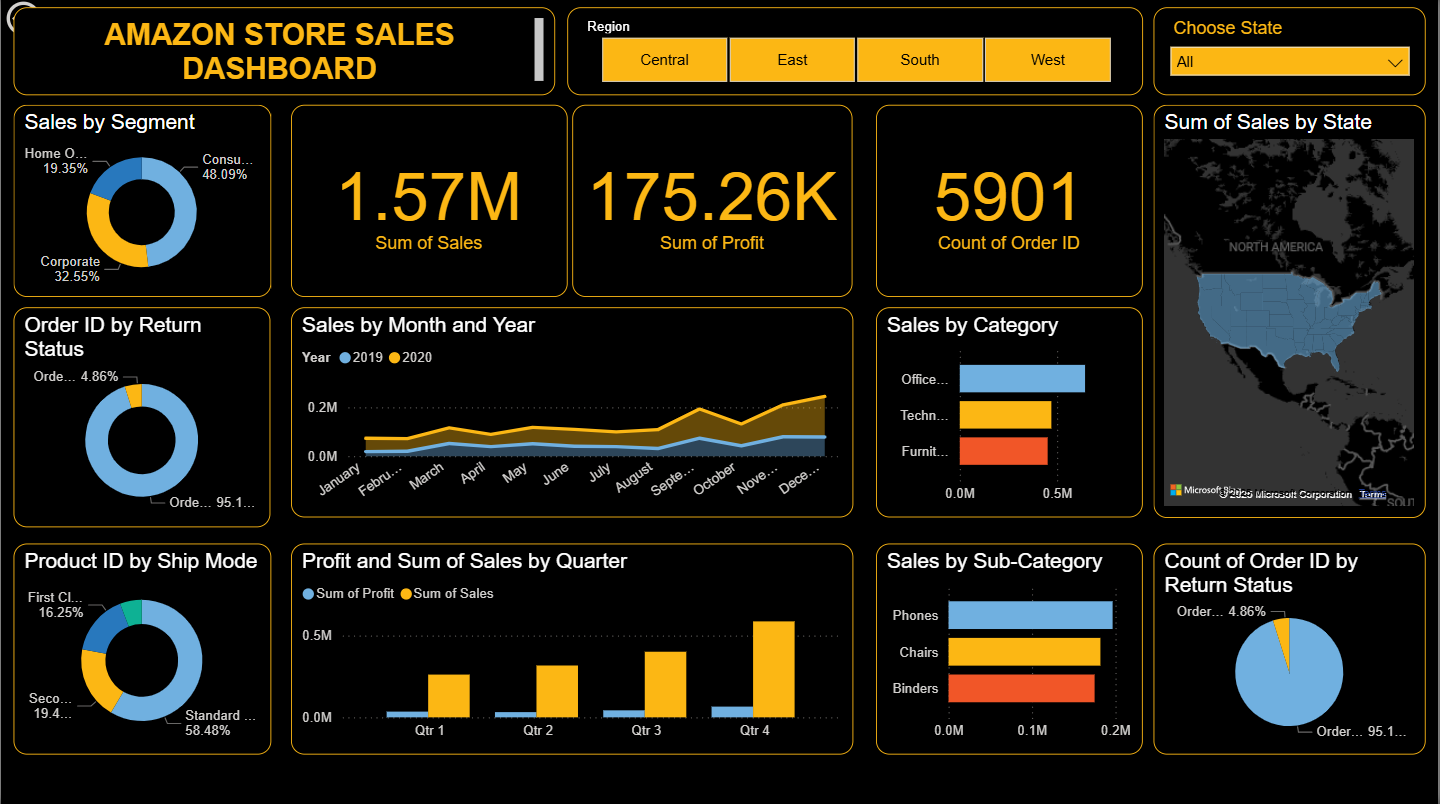

This screenshot's page, from the dashboard's own definition file:
{"tool":"powerbi","page":{"name":"Page 1","canvas":[1280,720],"ordinal":0},"visuals":[{"type":"clusteredBarChart","title":"Sales by Category","fields":{"Category":["Amazon Store Sales Data xlsx - Sheet1 (1).Category"],"Y":["Sum(Amazon Store Sales Data xlsx - Sheet1 (1).Sales)"]},"box":[779.4,277.5,237.7,187],"z":0},{"type":"clusteredBarChart","title":"Sales by Sub-Category","fields":{"Category":["Amazon Store Sales Data xlsx - Sheet1 (1).Sub-Category"],"Y":["Sum(Amazon Store Sales Data xlsx - Sheet1 (1).Sales)"]},"box":[779.4,487.4,237.7,188.2],"z":1000},{"type":"donutChart","title":" Sales by Segment","fields":{"Category":["Amazon Store Sales Data xlsx - Sheet1 (1).Segment"],"Y":["Sum(Amazon Store Sales Data xlsx - Sheet1 (1).Sales)"]},"box":[10.9,96.5,229.2,171.3],"z":2000},{"type":"donutChart","title":"Product ID by Ship Mode","fields":{"Category":["Amazon Store Sales Data xlsx - Sheet1 (1).Ship Mode"],"Y":["CountNonNull(Amazon Store Sales Data xlsx - Sheet1 (1).Product ID)"]},"box":[10.9,487.4,229.2,188.2],"z":3000},{"type":"donutChart","title":"Order ID by Return Status","fields":{"Y":["CountNonNull(Amazon Store Sales Data xlsx - Sheet1 (1).Order ID)"],"Category":["Amazon Store Sales Data xlsx - Sheet1 (1).Return Status"]},"box":[11,277.2,229.2,196.2],"z":4000},{"type":"stackedAreaChart","title":"Sales by Month and Year","fields":{"Category":["Amazon Store Sales Data xlsx - Sheet1 (1).Order Date.Variation.Date Hierarchy.Month"],"Y":["Sum(Amazon Store Sales Data xlsx - Sheet1 (1).Sales)"],"Series":["Amazon Store Sales Data xlsx - Sheet1 (1).Order Date.Variation.Date Hierarchy.Year"]},"box":[258.2,277.5,500.7,187],"z":5000},{"type":"clusteredColumnChart","title":"Profit and Sum of Sales by Quarter","fields":{"Category":["Amazon Store Sales Data xlsx - Sheet1 (1).Order Date.Variation.Date Hierarchy.Quarter"],"Y":["Sum(Amazon Store Sales Data xlsx - Sheet1 (1).Profit)","Sum(Amazon Store Sales Data xlsx - Sheet1 (1).Sales)"]},"box":[258.2,487.4,500.7,188.2],"z":6000},{"type":"filledMap","fields":{"Category":["Amazon Store Sales Data xlsx - Sheet1 (1).State"]},"box":[1026.7,96.5,242.5,368],"z":7000},{"type":"pieChart","fields":{"Category":["Amazon Store Sales Data xlsx - Sheet1 (1).Return Status"],"Y":["CountNonNull(Amazon Store Sales Data xlsx - Sheet1 (1).Order ID)"]},"box":[1026.7,487.4,242.5,188.2],"z":8000},{"type":"actionButton","box":[0,0,100,40],"z":8001},{"type":"card","fields":{"Values":["Sum(Amazon Store Sales Data xlsx - Sheet1 (1).Sales)"]},"box":[258.2,96.5,246.1,171.3],"z":8002},{"type":"card","fields":{"Values":["Sum(Amazon Store Sales Data xlsx - Sheet1 (1).Profit)"]},"box":[509.1,96.5,249.7,171.3],"z":8003},{"type":"card","fields":{"Values":["CountNonNull(Amazon Store Sales Data xlsx - Sheet1 (1).Order ID)"]},"box":[779.4,96.5,237.7,171.3],"z":8004},{"type":"slicer","fields":{"Values":["Amazon Store Sales Data xlsx - Sheet1 (1).State"]},"box":[1026.7,9.7,242.5,78.4],"z":8005},{"type":"slicer","fields":{"Values":["Amazon Store Sales Data xlsx - Sheet1 (1).Region"]},"box":[504.3,9.7,512.7,78.4],"z":8006},{"type":"textbox","box":[10.9,9.7,482.6,78.4],"z":8007}]}

Visuals, with their boxes in screenshot pixels (x1, y1, x2, y2), scaled from the page's 1280x720 canvas onto the 1440x804 screenshot:
"Sales by Category" clusteredBarChart: {"left": 877, "top": 310, "right": 1144, "bottom": 519}
"Sales by Sub-Category" clusteredBarChart: {"left": 877, "top": 544, "right": 1144, "bottom": 754}
" Sales by Segment" donutChart: {"left": 12, "top": 108, "right": 270, "bottom": 299}
"Product ID by Ship Mode" donutChart: {"left": 12, "top": 544, "right": 270, "bottom": 754}
"Order ID by Return Status" donutChart: {"left": 12, "top": 310, "right": 270, "bottom": 529}
"Sales by Month and Year" stackedAreaChart: {"left": 290, "top": 310, "right": 854, "bottom": 519}
"Profit and Sum of Sales by Quarter" clusteredColumnChart: {"left": 290, "top": 544, "right": 854, "bottom": 754}
filledMap - Amazon Store Sales Data xlsx - Sheet1 (1).State: {"left": 1155, "top": 108, "right": 1428, "bottom": 519}
pieChart - Amazon Store Sales Data xlsx - Sheet1 (1).Return Status x CountNonNull(Amazon Store Sales Data xlsx - Sheet1 (1).Order ID): {"left": 1155, "top": 544, "right": 1428, "bottom": 754}
actionButton: {"left": 0, "top": 0, "right": 112, "bottom": 45}
card - Sum(Amazon Store Sales Data xlsx - Sheet1 (1).Sales): {"left": 290, "top": 108, "right": 567, "bottom": 299}
card - Sum(Amazon Store Sales Data xlsx - Sheet1 (1).Profit): {"left": 573, "top": 108, "right": 854, "bottom": 299}
card - CountNonNull(Amazon Store Sales Data xlsx - Sheet1 (1).Order ID): {"left": 877, "top": 108, "right": 1144, "bottom": 299}
slicer - Amazon Store Sales Data xlsx - Sheet1 (1).State: {"left": 1155, "top": 11, "right": 1428, "bottom": 98}
slicer - Amazon Store Sales Data xlsx - Sheet1 (1).Region: {"left": 567, "top": 11, "right": 1144, "bottom": 98}
textbox: {"left": 12, "top": 11, "right": 555, "bottom": 98}
